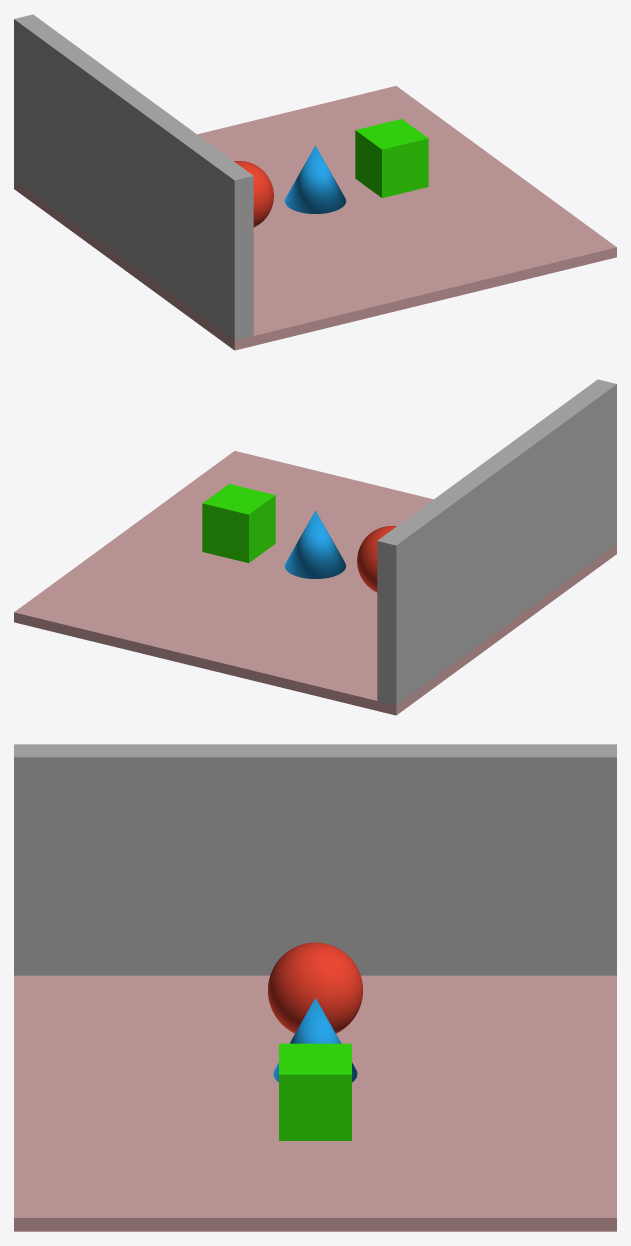
File: TestScene.gltf
3 renders of one model, top to bottom at view 1: azimuth 30°, elevation 25°; view 2: azimuth 150°, elevation 25°; view 3: azimuth 270°, elevation 25°, orthographic. The views are drawn at different scales.
Parts seen in each view (by area): view 1: Floor, Wall, Cube, Cone, Sphere; view 2: Floor, Wall, Cube, Cone, Sphere; view 3: Floor, Wall, Cube, Sphere, Cone.
Part boxes in pixels (bbox=[...]): Floor: bbox=[14, 86, 616, 350]; Wall: bbox=[14, 14, 253, 340]; Cube: bbox=[355, 119, 428, 198]; Cone: bbox=[284, 145, 346, 213]; Sphere: bbox=[234, 161, 273, 227]; Floor: bbox=[14, 451, 616, 715]; Wall: bbox=[377, 379, 616, 705]; Cube: bbox=[202, 484, 275, 563]; Cone: bbox=[284, 510, 346, 578]; Sphere: bbox=[357, 526, 396, 592]; Floor: bbox=[14, 975, 616, 1231]; Wall: bbox=[14, 744, 616, 975]; Cube: bbox=[279, 1043, 351, 1140]; Sphere: bbox=[268, 942, 362, 1033]; Cone: bbox=[273, 998, 357, 1082].
Size of the model in its own units: 20 by 8.5 by 20.
